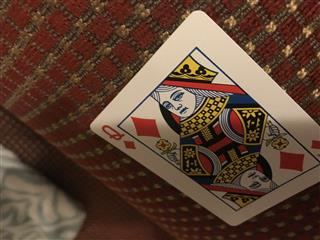QueenOfDiamonds: (88, 9, 320, 226)
